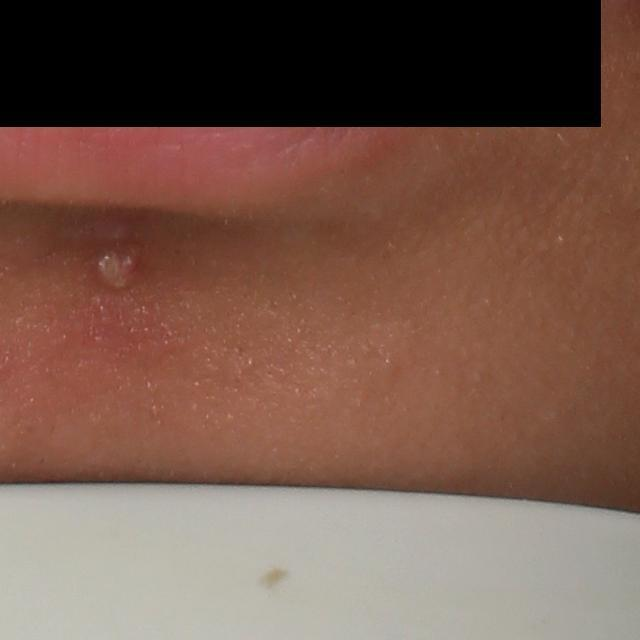pustule: (77, 240, 142, 298)
